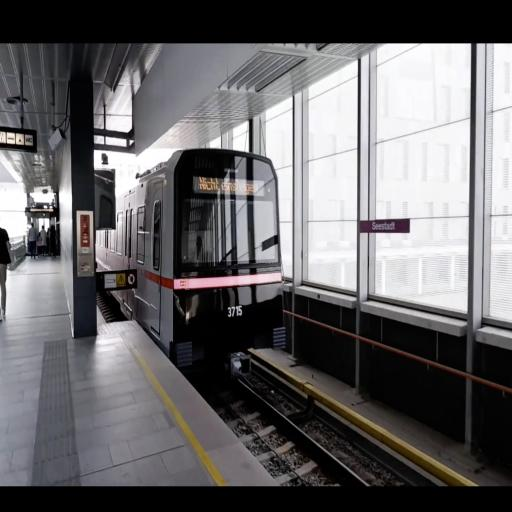X-Wagen: (96, 148, 284, 354)
